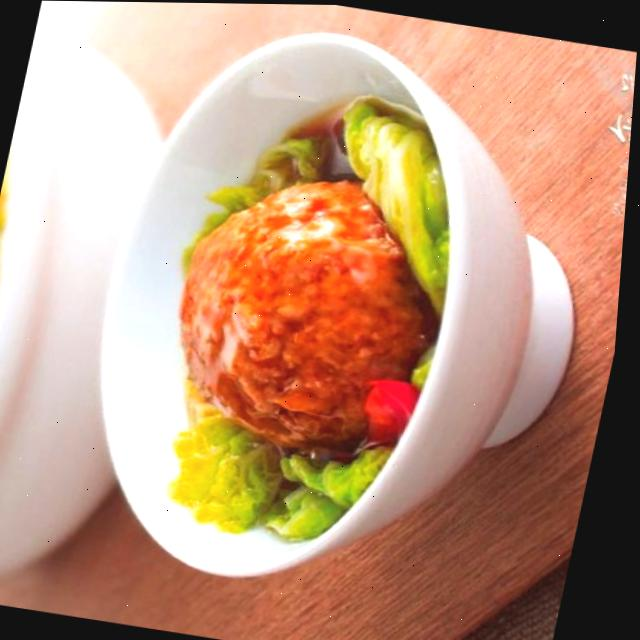猪肉菜式: (133, 57, 500, 565)
